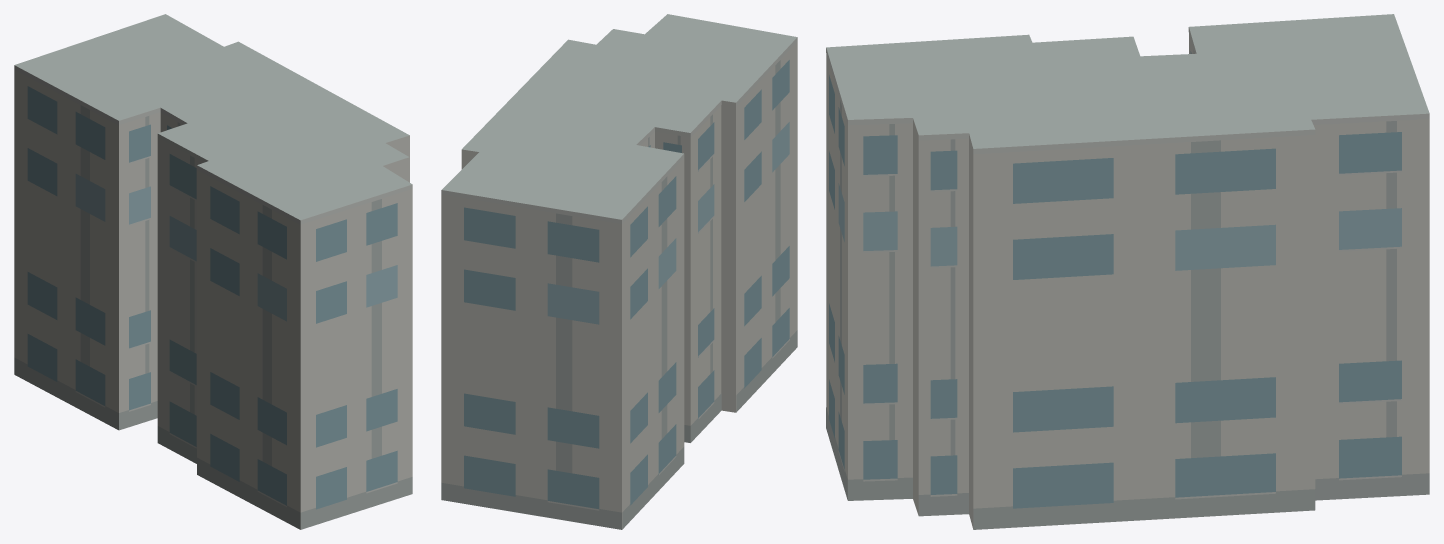
The model's file is survey-upis-32969825.glb.
3 views of the same model, side by side, from view 1: azimuth 30°, elevation 25°; view 2: azimuth 150°, elevation 25°; view 3: azimuth 270°, elevation 25° (orthographic). The views are drawn at different scales.
Visible parts, largest first — view 1: survey-upis-32969825.tmp; view 2: survey-upis-32969825.tmp; view 3: survey-upis-32969825.tmp.
Part boxes in pixels (box(x1,y1,x2,y2)): survey-upis-32969825.tmp: box(14, 14, 412, 529); survey-upis-32969825.tmp: box(441, 14, 797, 529); survey-upis-32969825.tmp: box(826, 14, 1429, 529).
Bounding box in the file's own units: 12.74 × 16.75 × 24.06.
